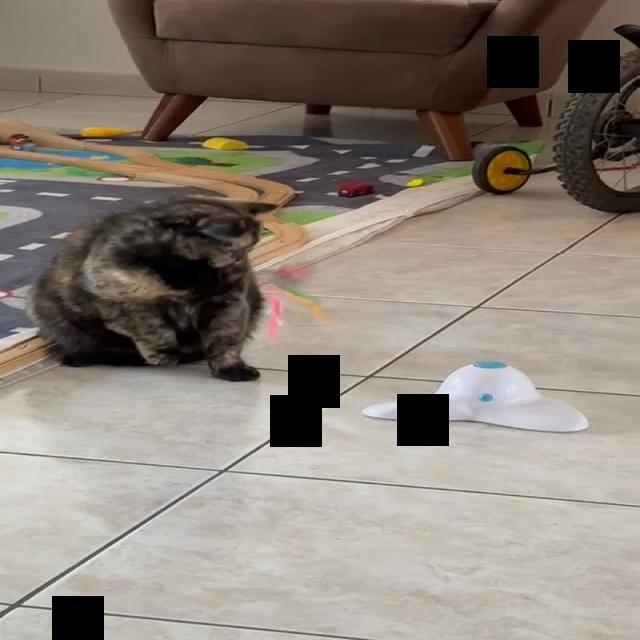authorized: (26, 193, 278, 382)
